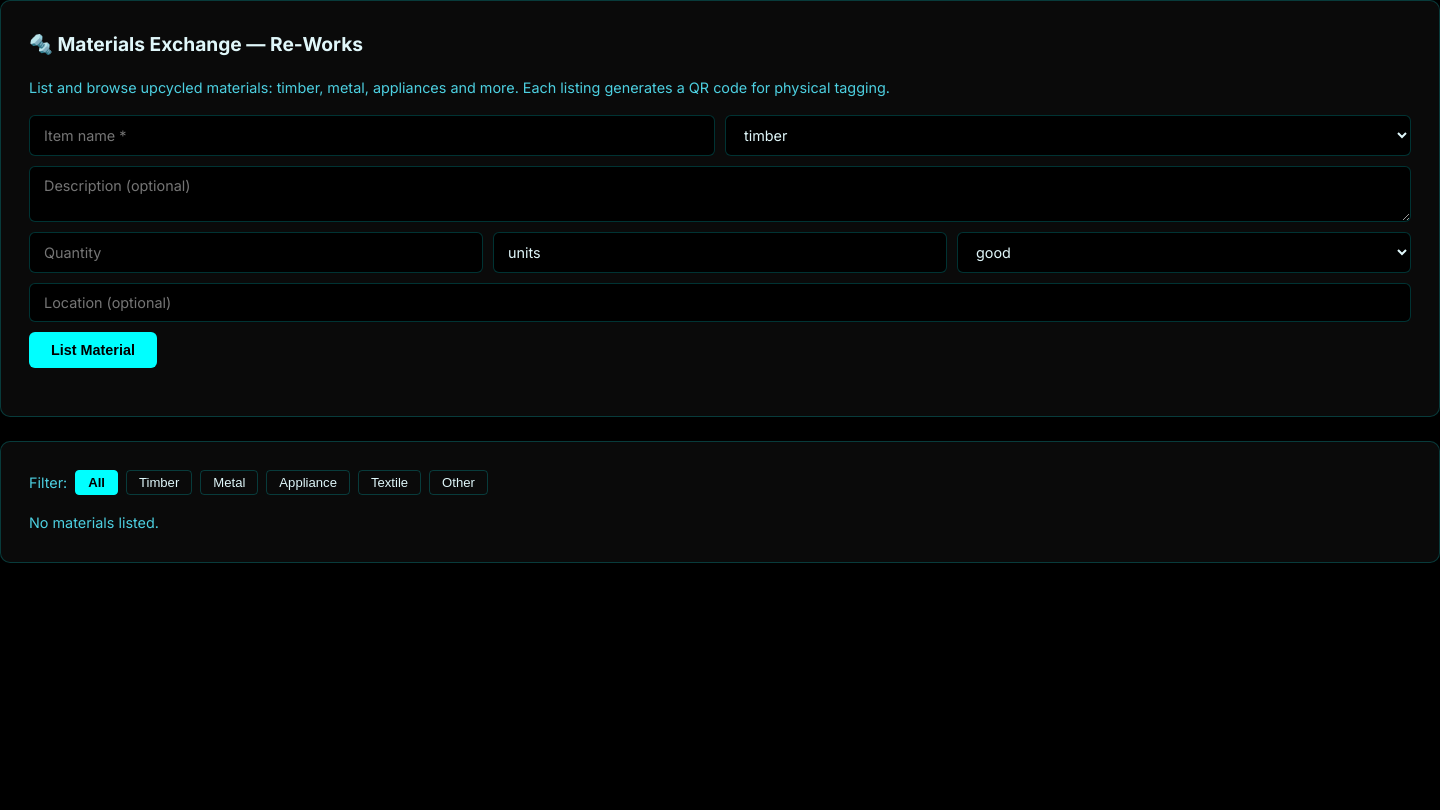
Test: Materials › shows success message after listing
This screenshot has width=1440, height=810.
Step 1. Type "Steel Rod" into the field with placeholder "Item name *" → point(372, 135), box top-left (29, 115), bottom-right (715, 156)
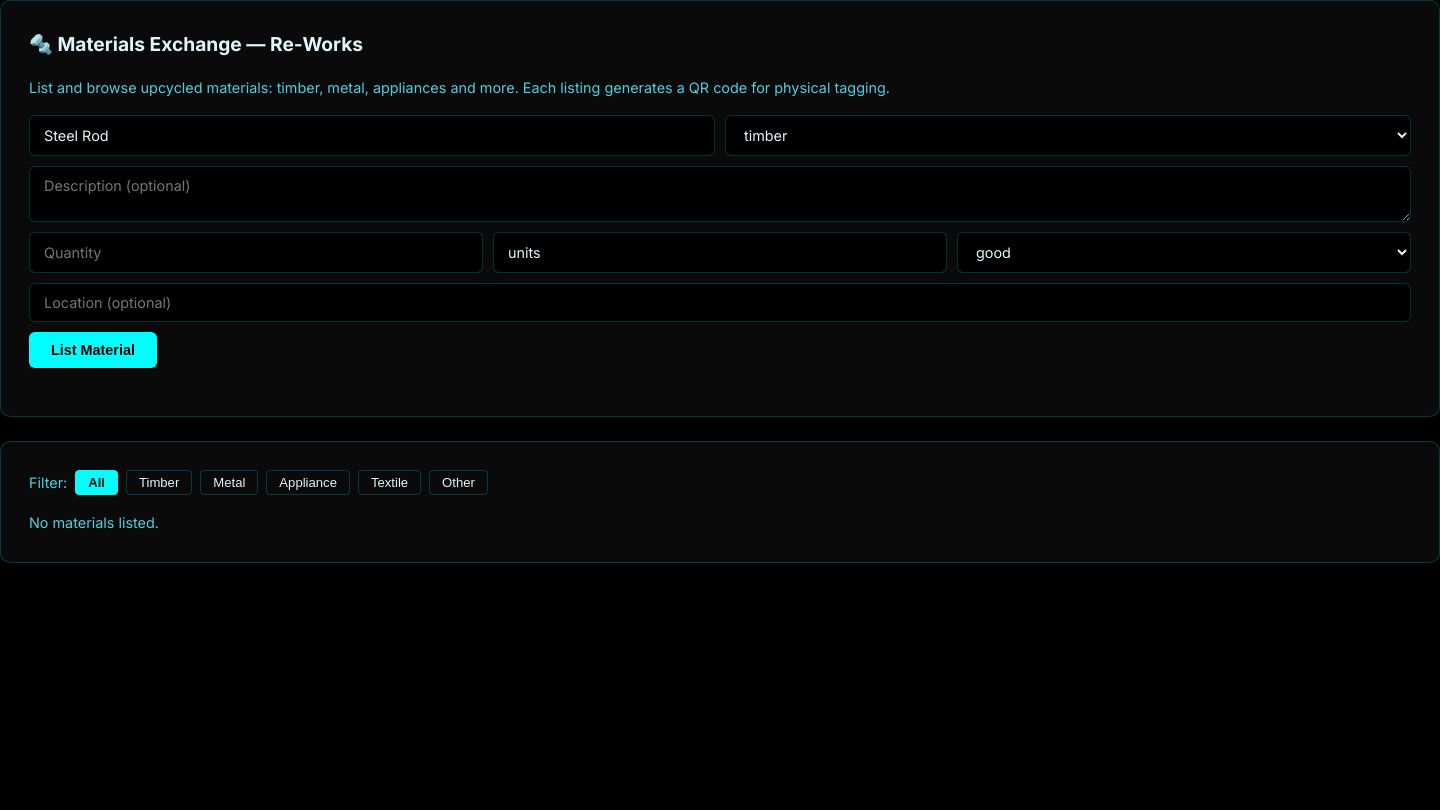
Step 2. Click the button "List Material" → point(93, 350), box top-left (29, 332), bottom-right (157, 368)
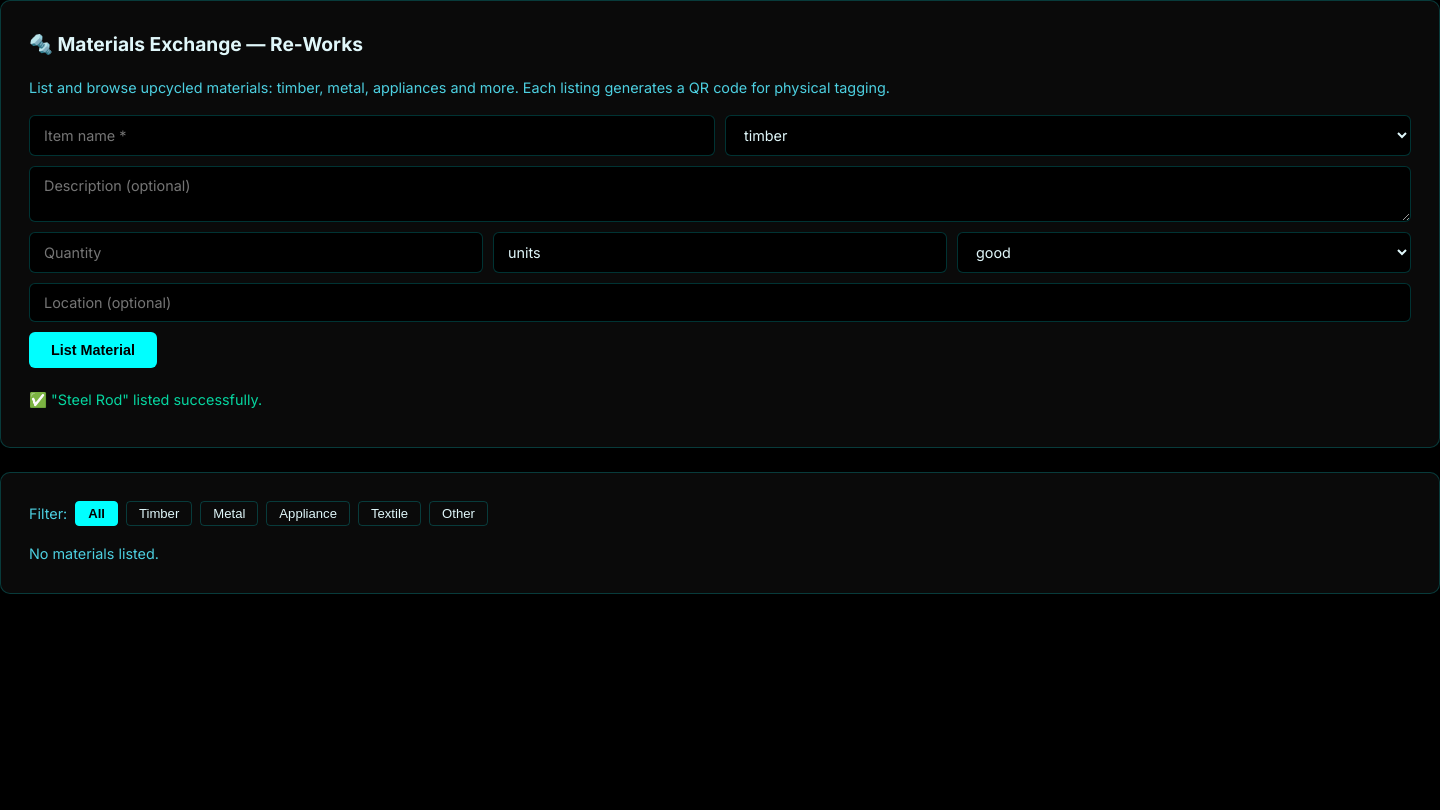
Check: the text "✅ \"Steel Rod\" listed successfully." is shown, box top-left (29, 391), bottom-right (262, 408)
